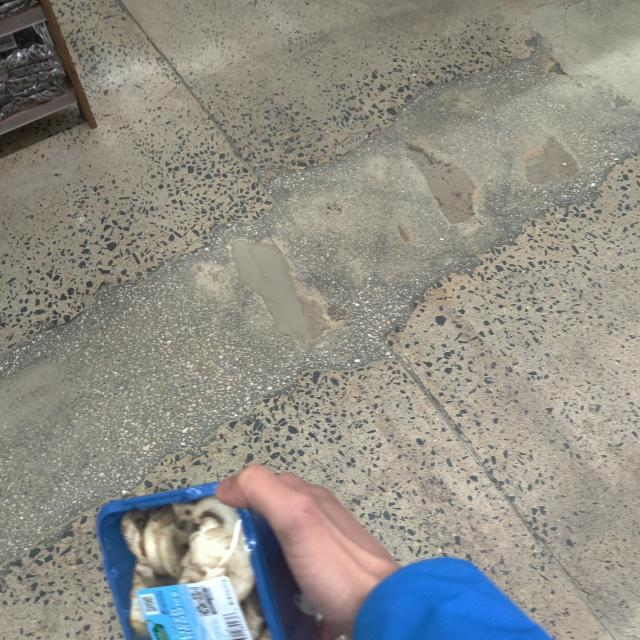Meat: (95, 482, 291, 640)
